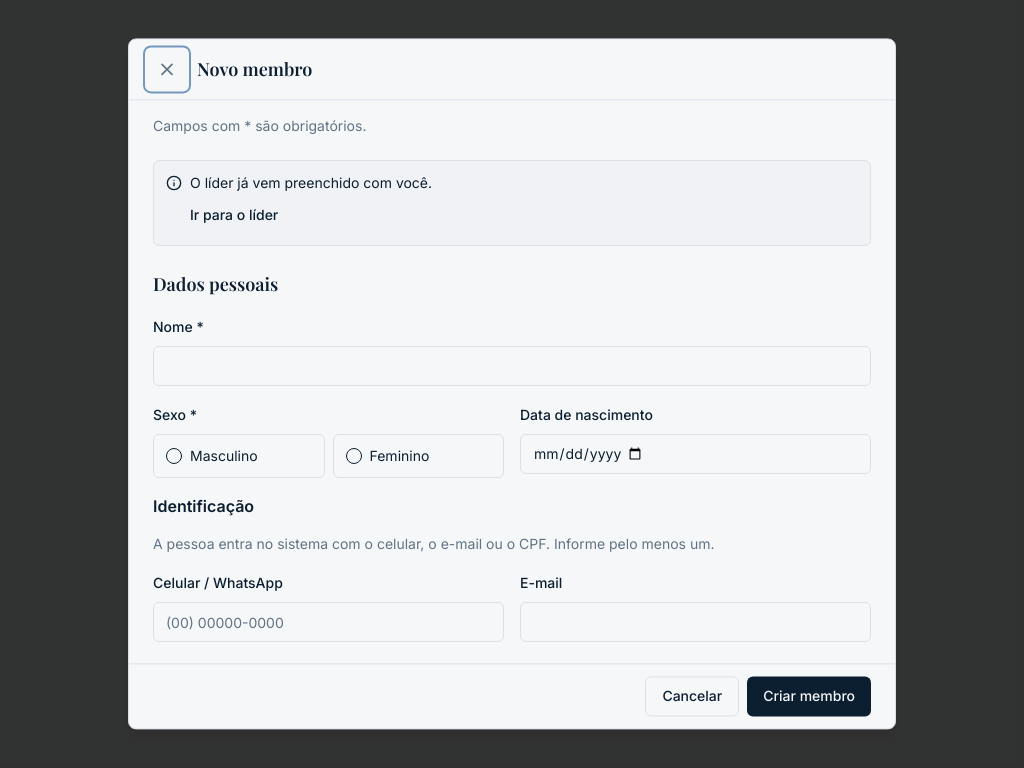
UX-04: Sexo é um radiogroup › Dado o toque no texto 'Feminino', então a opção marca (a caixa inteira é o alvo)
The width and height of the screenshot is (1024, 768).
Expected: the button "Criar membro" is shown, x1=747 y1=677 x2=871 y2=717
Click the text "Feminino". click: x=418, y=456
box: x1=332 y1=434 x2=504 y2=478
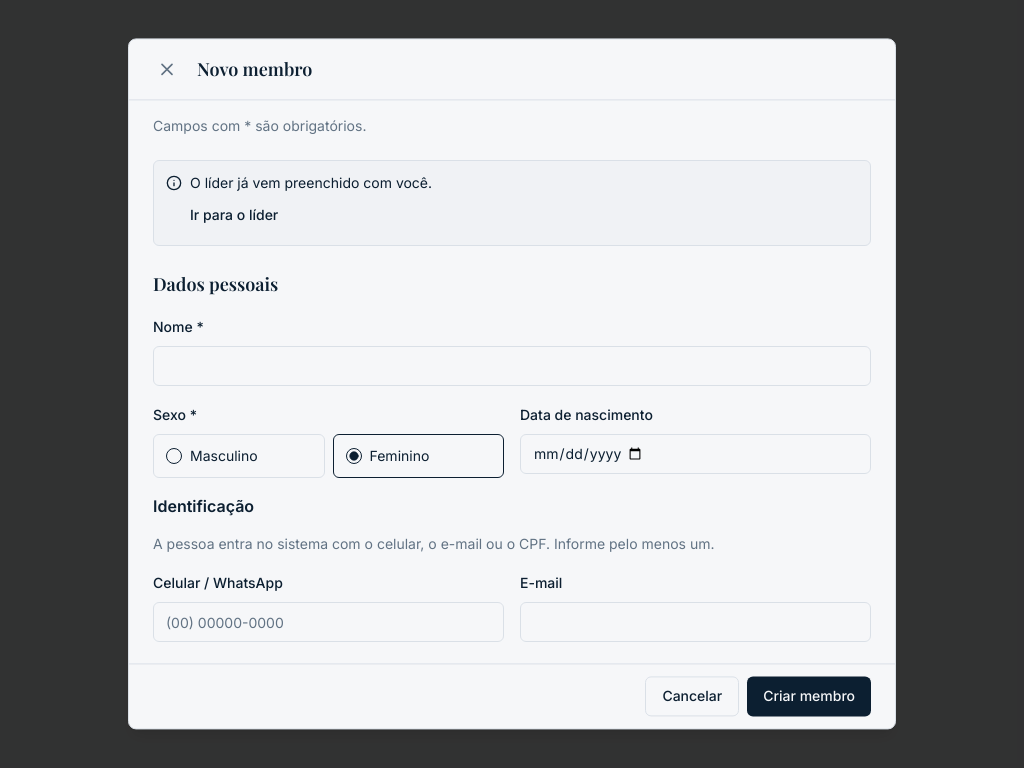
Expected: the radio button named "Masculino" next to "Masculino" is not checked, x1=166 y1=448 x2=182 y2=464
Expected: the radio button named "Feminino" next to "Feminino" is checked, x1=346 y1=448 x2=362 y2=464
